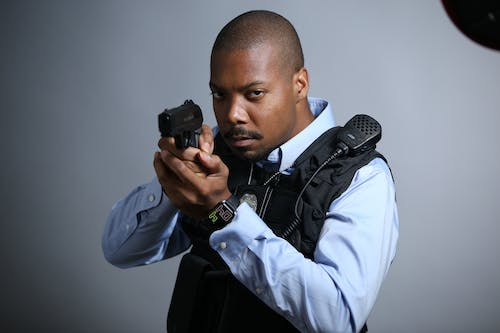gun: (156, 99, 205, 151)
